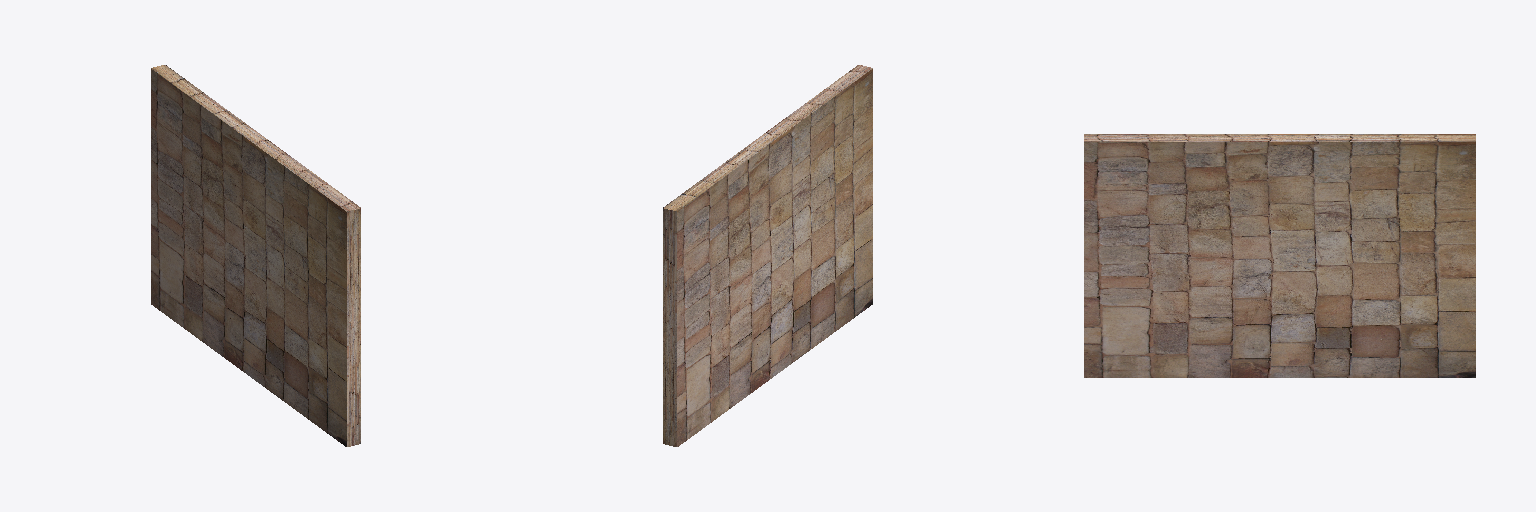
3 views of the same model, side by side, from view 1: azimuth 30°, elevation 25°; view 2: azimuth 150°, elevation 25°; view 3: azimuth 270°, elevation 25° (orthographic).
Parts seen in each view (by area): view 1: Cube; view 2: Cube; view 3: Cube.
Boxes of the visible parts, box(x1,y1,x2,y2) form: Cube: box(151, 65, 360, 446); Cube: box(663, 65, 872, 446); Cube: box(1084, 134, 1475, 377).
Size of the model in its own units: 0.4234 by 6.43 by 9.69.
Materials: 1 (1 with a texture image).